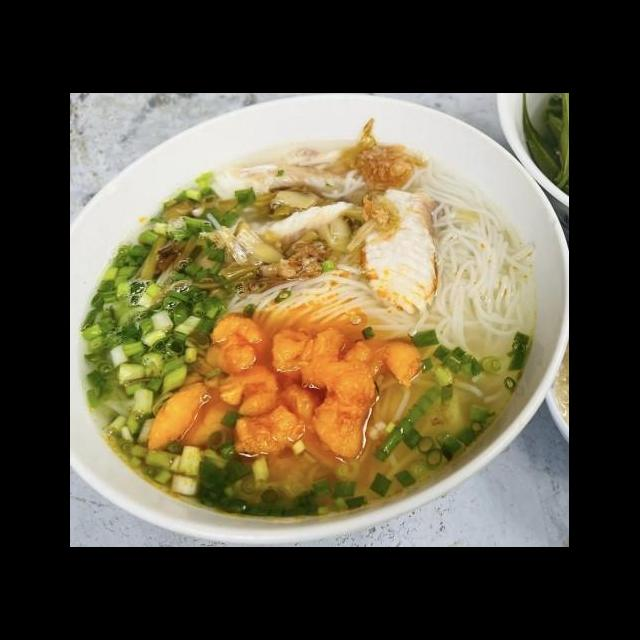bun: (422, 151, 550, 428), (206, 269, 544, 343)
bun ca: (93, 131, 561, 540)
ca: (356, 179, 440, 308), (204, 199, 356, 258), (232, 162, 364, 201)
tom: (296, 325, 384, 463), (228, 383, 326, 459), (340, 332, 426, 393), (204, 313, 276, 381), (214, 363, 282, 417), (266, 323, 318, 380)
